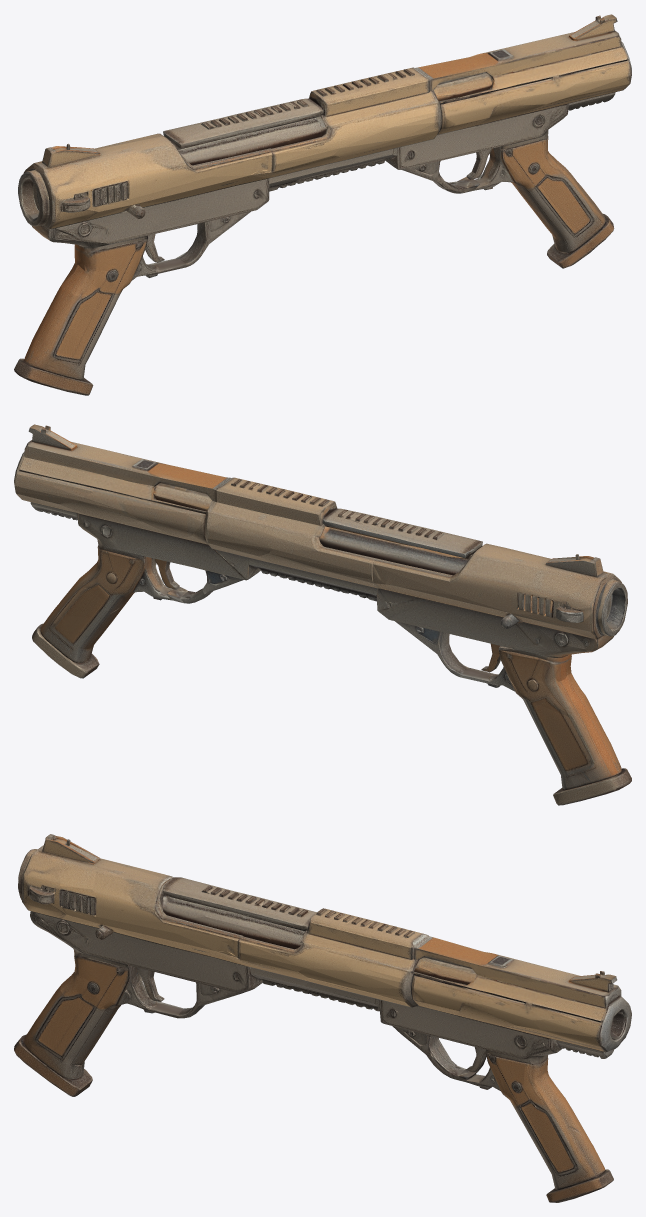
File: machine_pistols.glb
3 views of the same model, one above another, from view 1: azimuth 30°, elevation 25°; view 2: azimuth 150°, elevation 25°; view 3: azimuth 330°, elevation 25° (orthographic).
Parts seen in each view (by area): view 1: mesh_node; view 2: mesh_node; view 3: mesh_node.
Boxes of the visible parts, left/top/right/bottom form: mesh_node: left=14, top=14, right=631, bottom=395; mesh_node: left=14, top=424, right=631, bottom=805; mesh_node: left=14, top=834, right=631, bottom=1202.
Bounding box in the file's own units: 1.9 × 0.7521 × 0.2361.
Materials: 1 (1 with a texture image).
